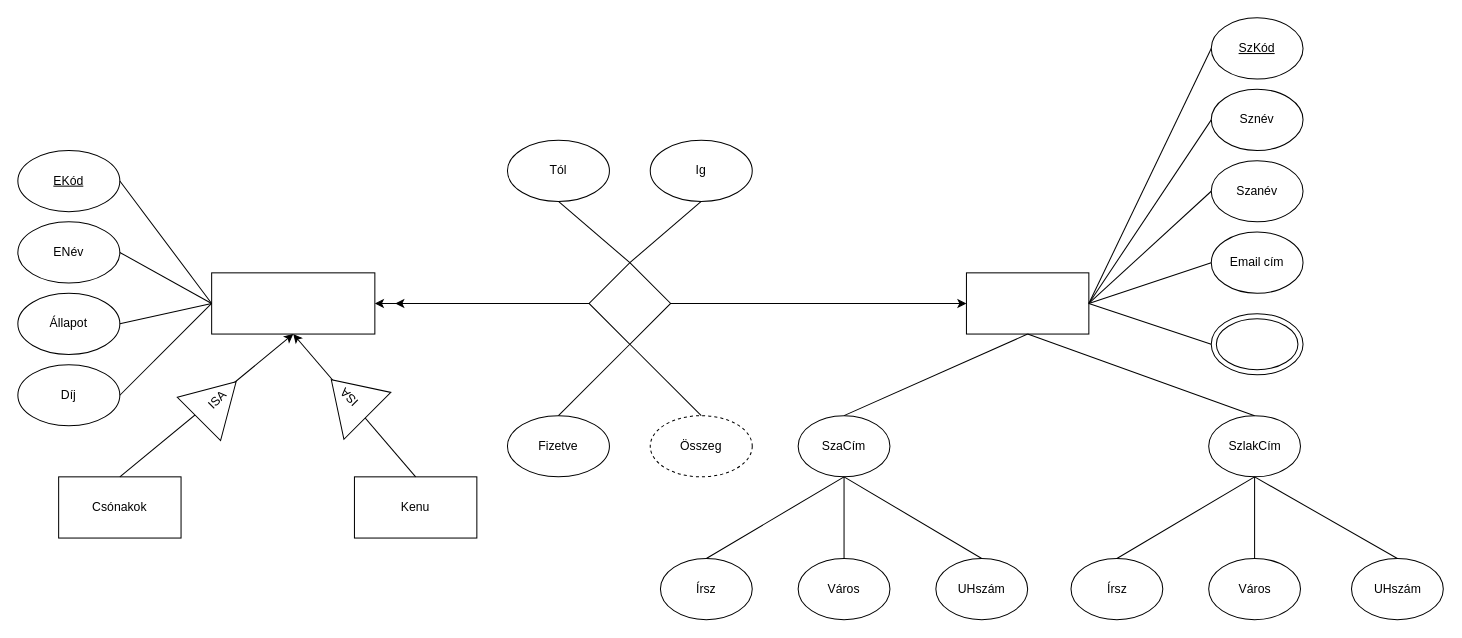
Image size: 1462x638. Some labels were removed from this diagram. Each missing label, with the centre of its shape:
"Eszköz" belongs at [293,303].
"Kölcsönzés" belongs at [629,303].
"Személy" belongs at [1027,303].
"Tszám" belongs at [1256,344].
